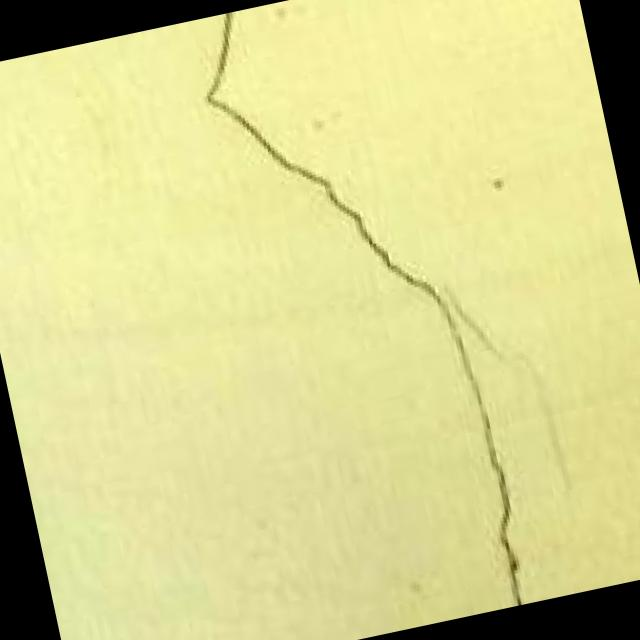crack: (153, 0, 580, 640)
